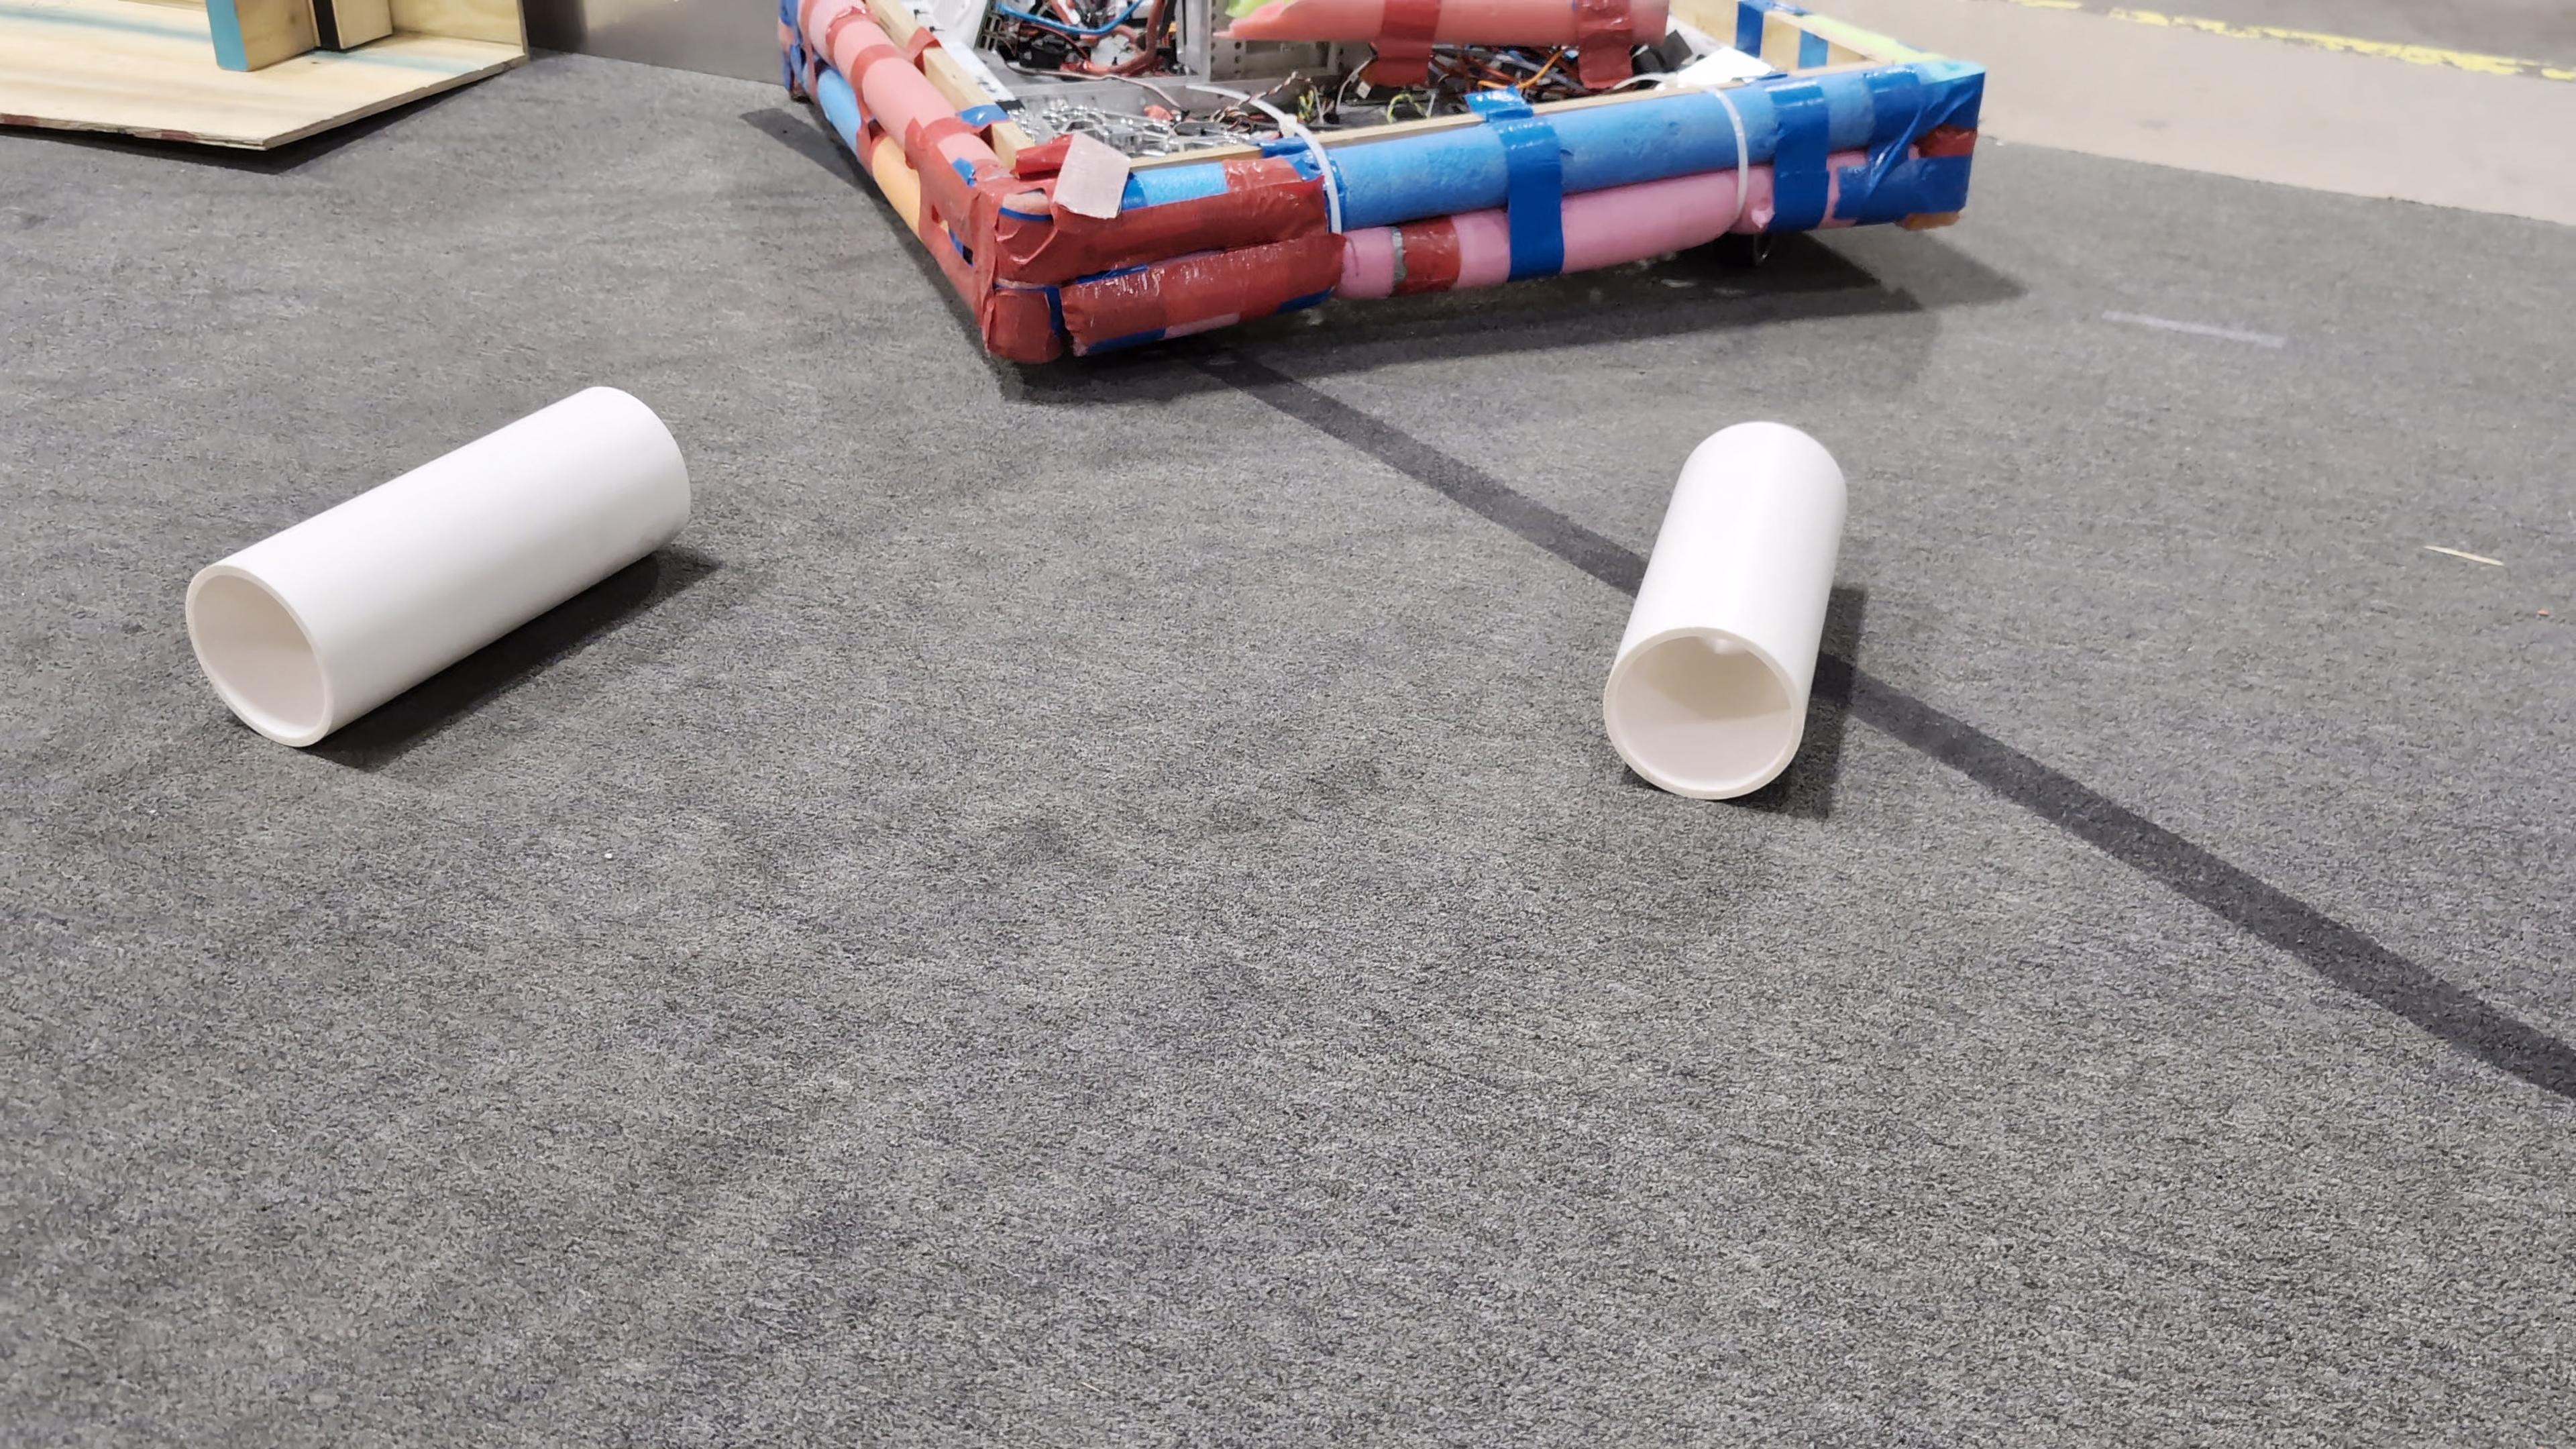coral: (184, 380, 695, 747), (1599, 416, 1851, 798)
